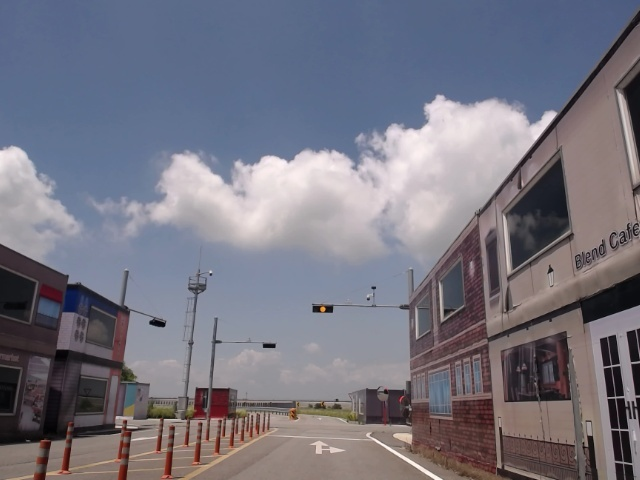orange_3: (312, 304, 333, 313)
